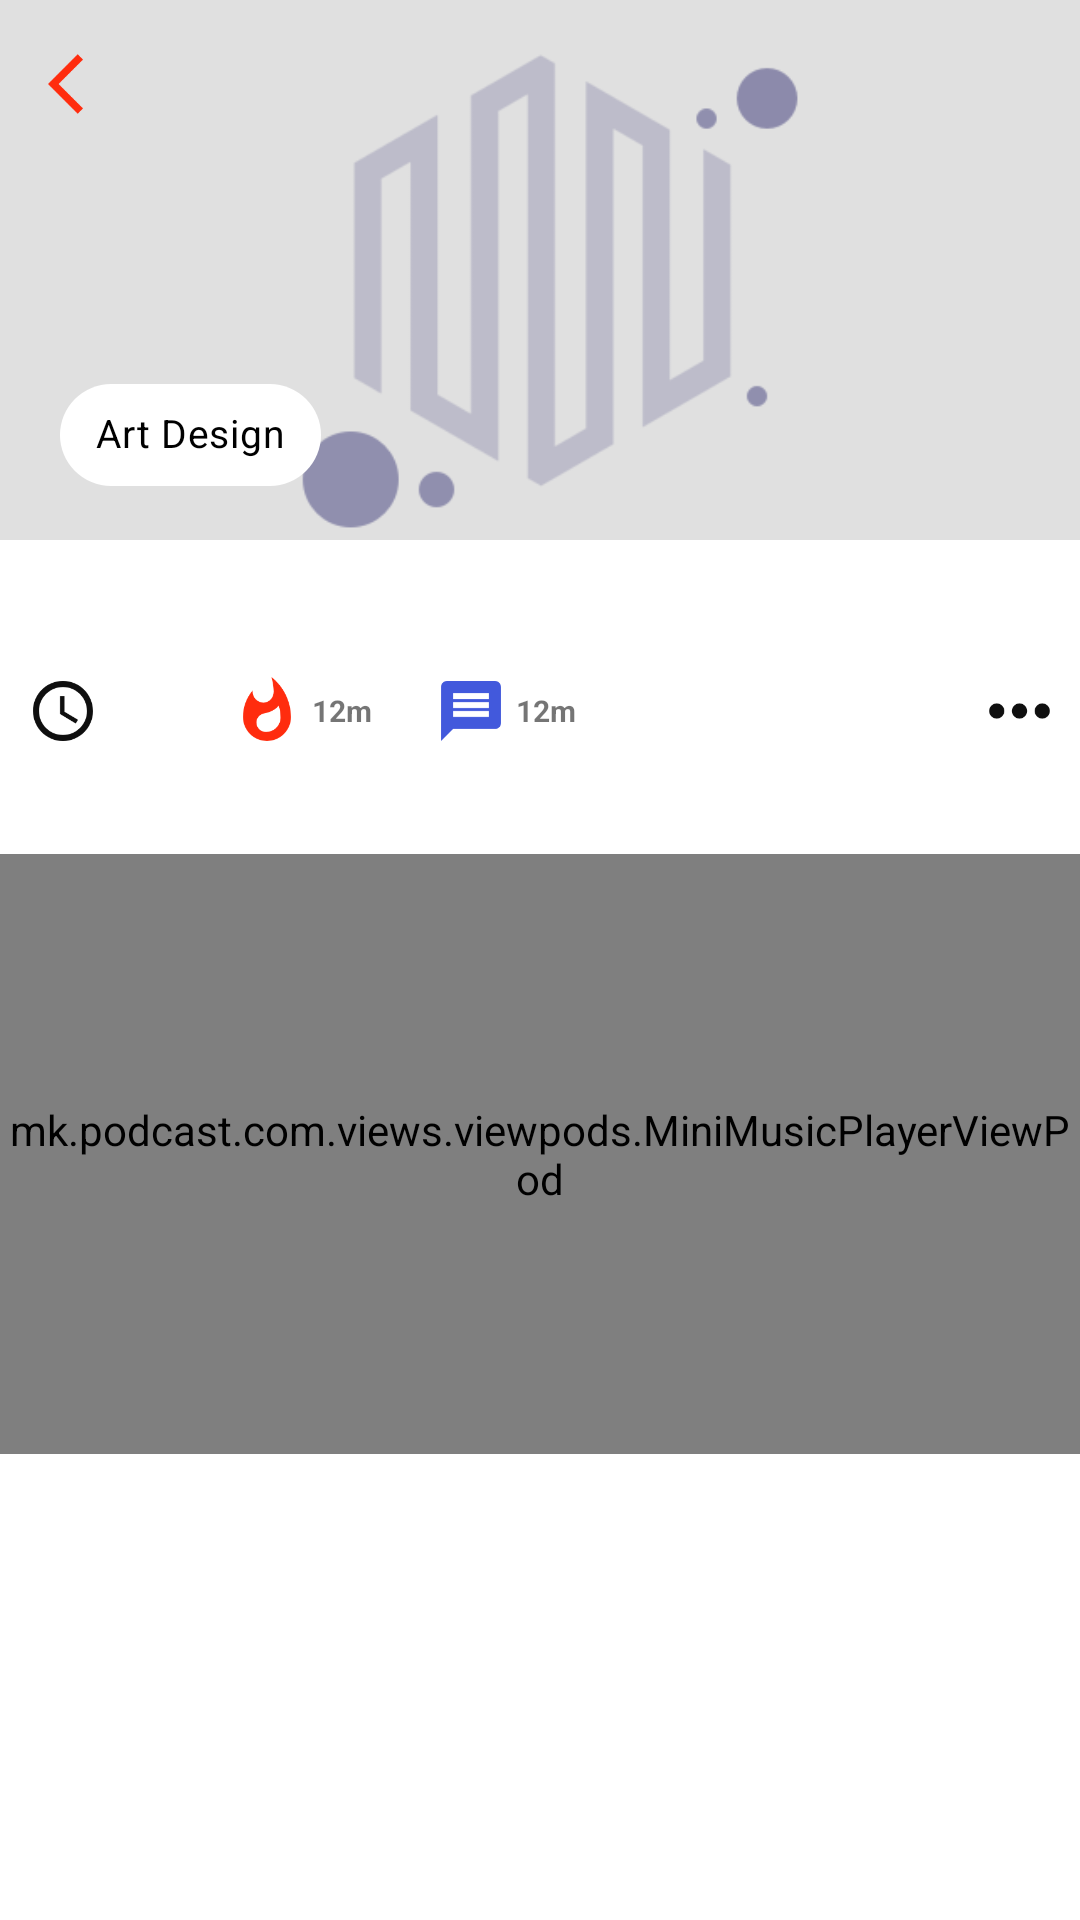

Where icons sit on this 1080px×1920px app screen, as (x1, y1, x2, y2):
more: (989, 703, 1050, 719)
